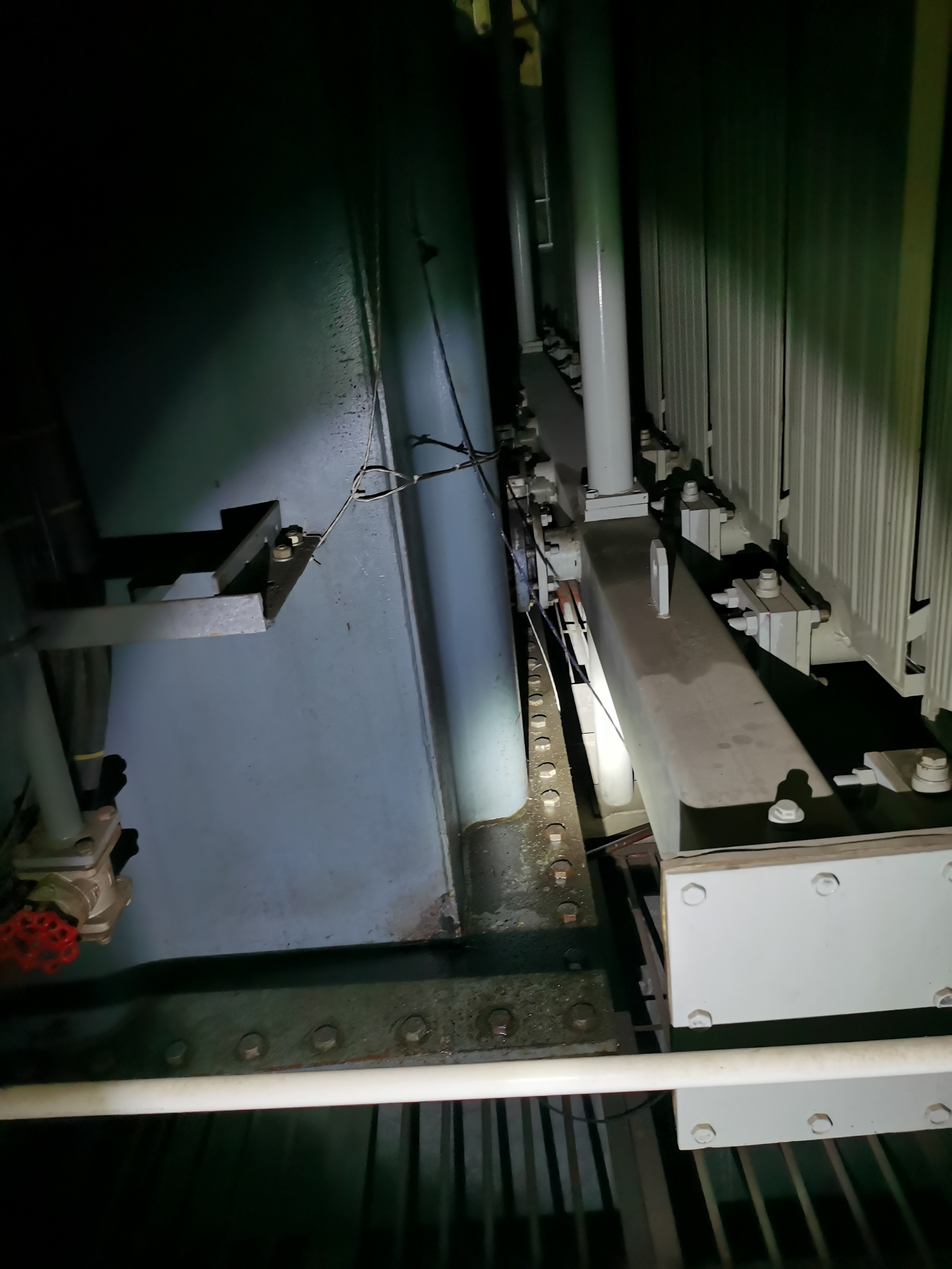sly_bjbmyw: (0, 577, 648, 1078), (557, 455, 757, 691)
